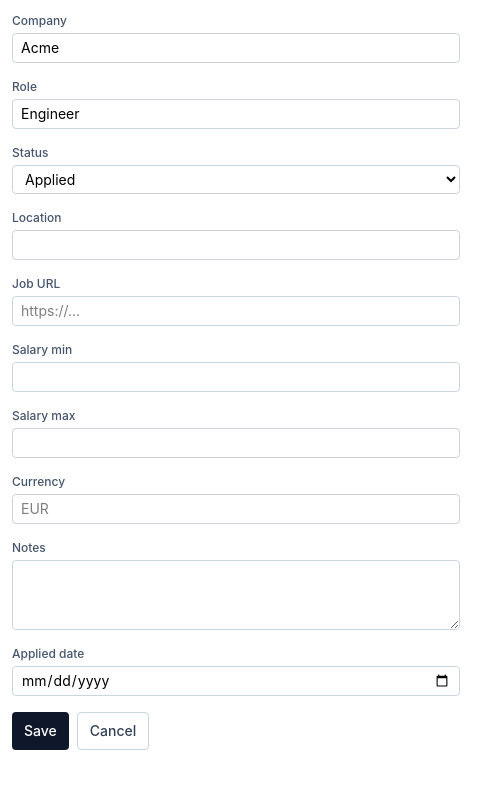
Test: ApplicationForm › flags a salary minimum above the maximum
Type "200000" into the number field labelled "Salary min" at (236, 377), box [12,362,460,392]
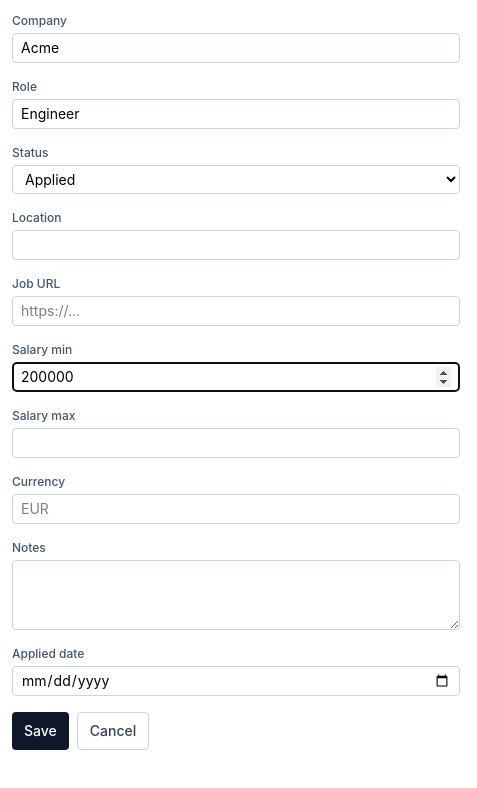
Type "100000" into the number field labelled "Salary max" at (236, 443), box [12,428,460,458]
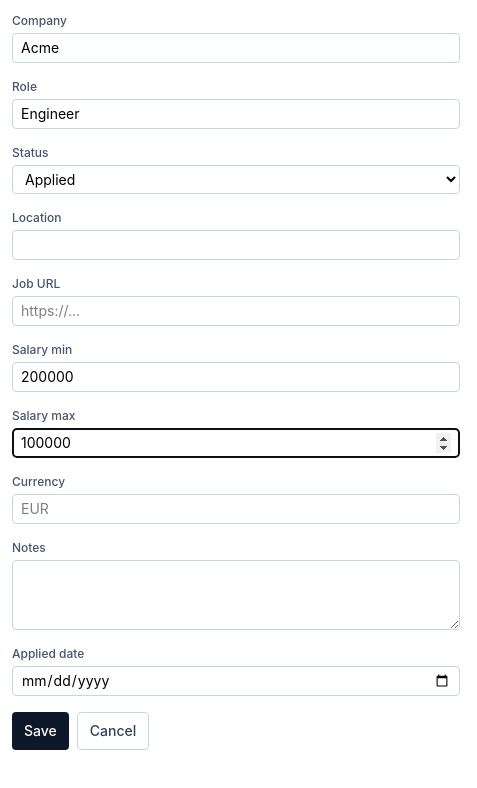
Click the button "Save" at (40, 731), box [12,712,69,750]
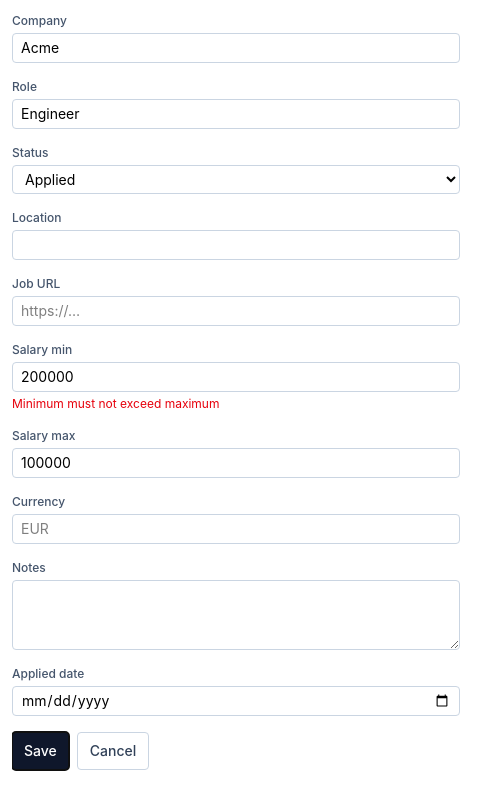
Result: the text "Minimum must not exceed maximum" is shown at [12,396,220,411]
